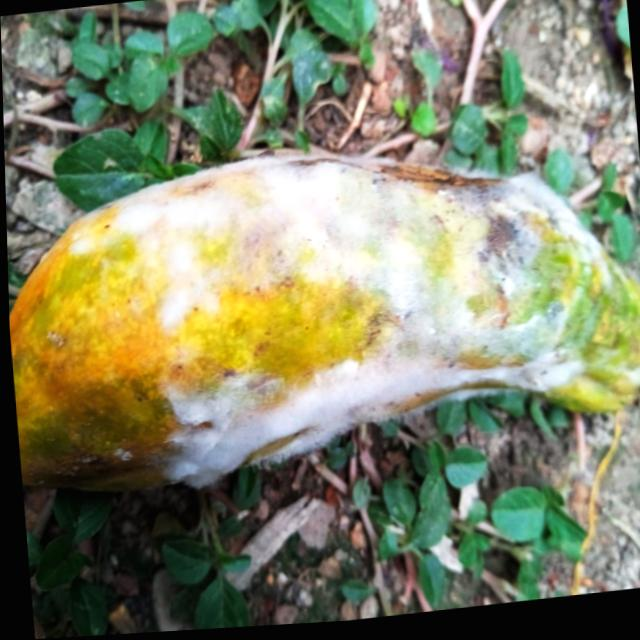Pythium-Fruit-Rot: (62, 118, 613, 504)
